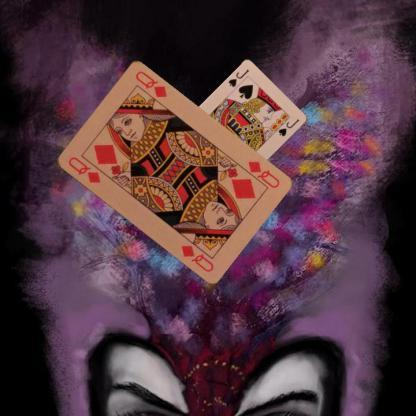Js: (226, 66, 250, 88)
Qd: (237, 156, 281, 190), (65, 154, 103, 186)
